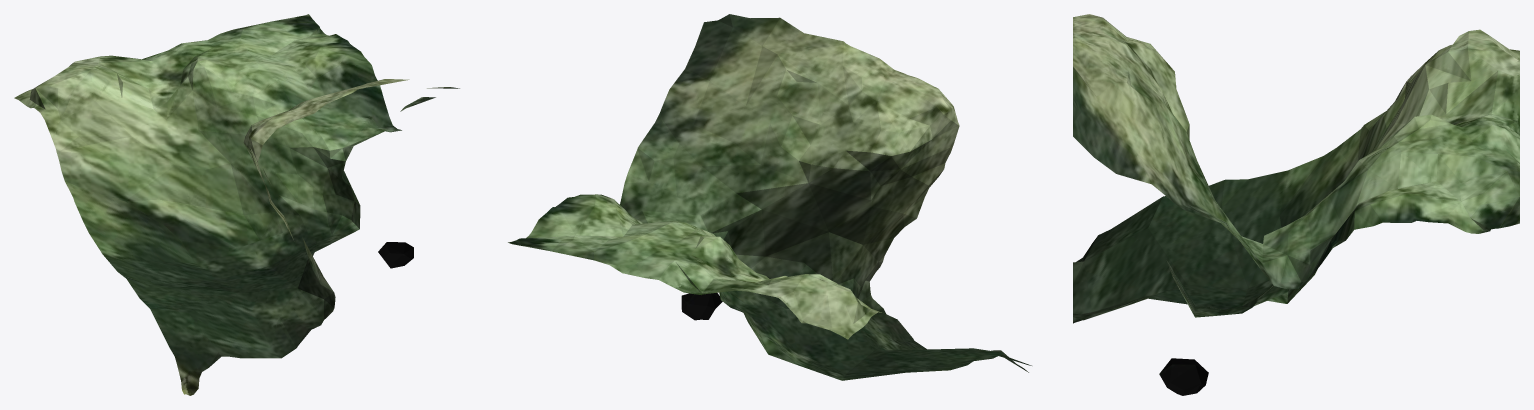
3 views of the same model, side by side, from view 1: azimuth 30°, elevation 25°; view 2: azimuth 150°, elevation 25°; view 3: azimuth 270°, elevation 25° (orthographic). The views are drawn at different scales.
Bounding box in the file's own units: 5.9 × 5.22 × 5.9.
Materials: 4 (4 with a texture image).
